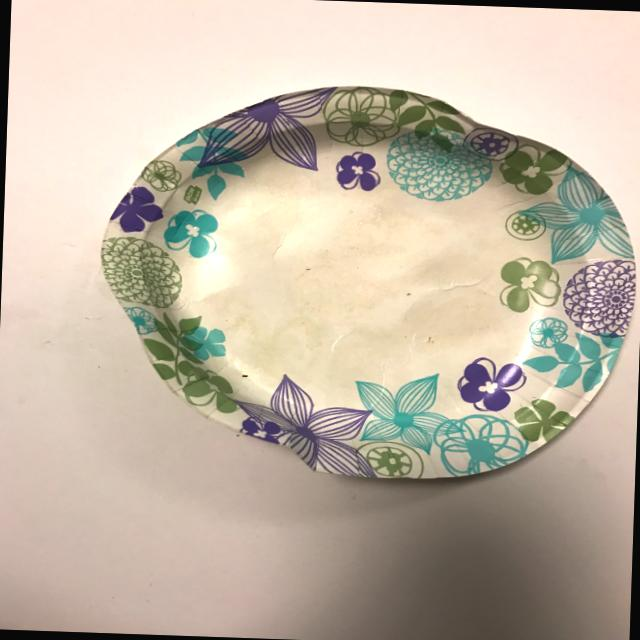Paper: (58, 68, 640, 525)
